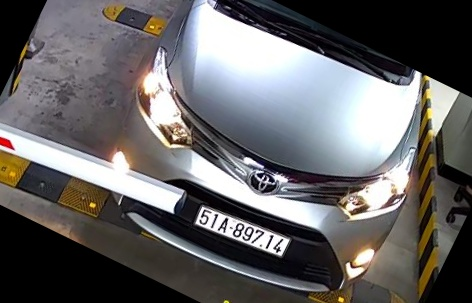plate: (188, 198, 295, 262)
